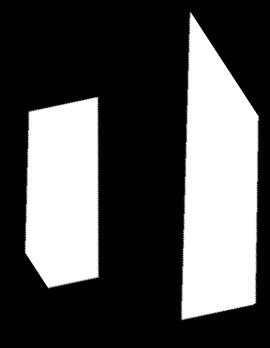parkingspot: (181, 12, 259, 320), (25, 97, 99, 288)
